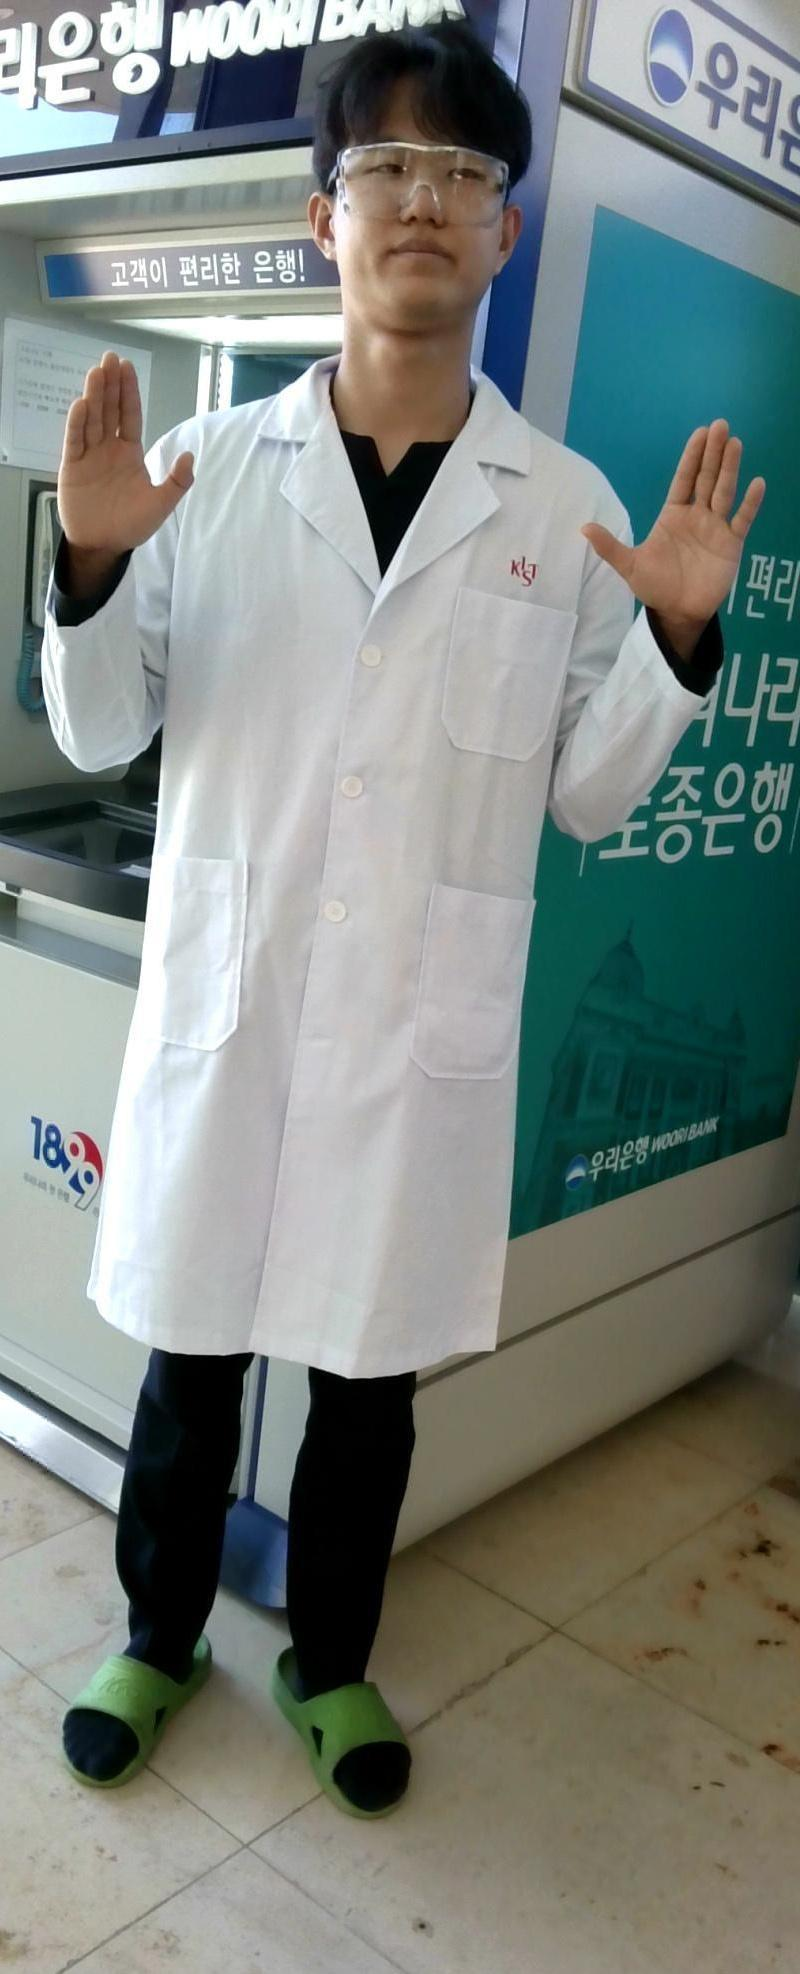lab_coat: (141, 426, 586, 1353)
